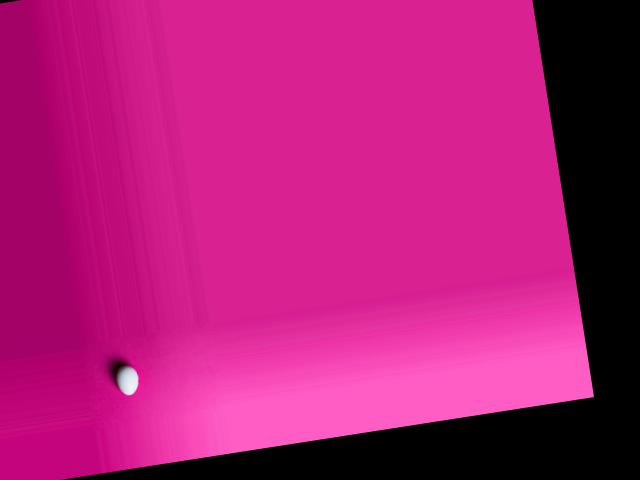egg: (115, 363, 141, 396)
